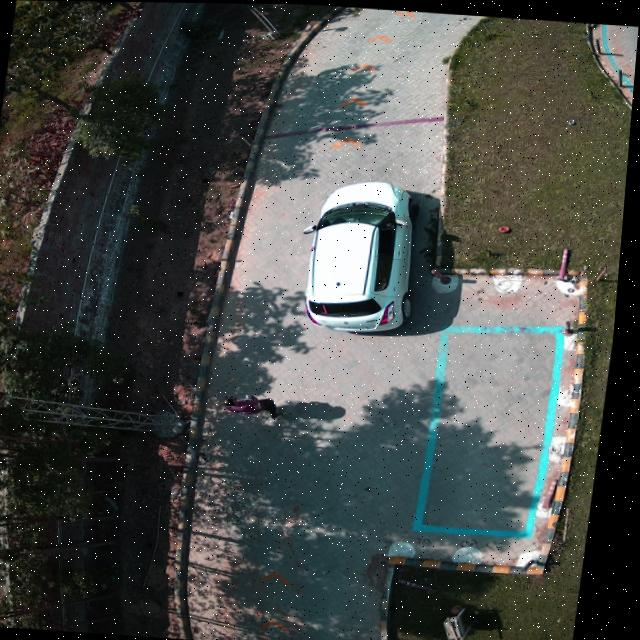car: (310, 179, 421, 331)
